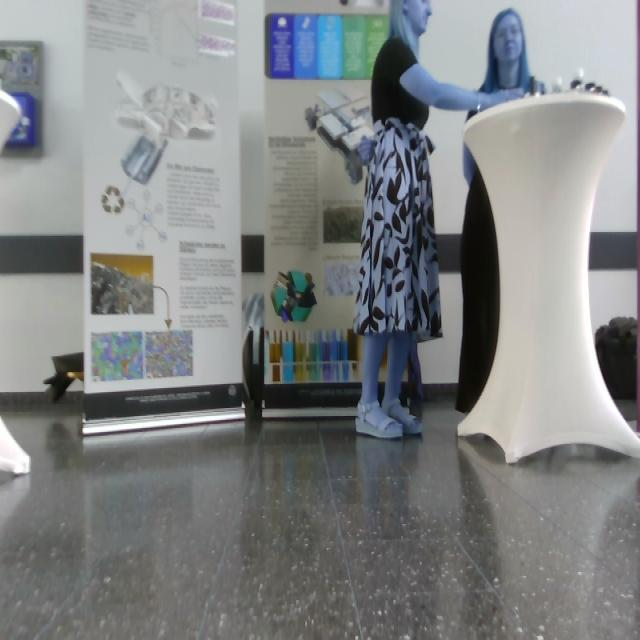door: (259, 1, 639, 414)
light bulb: (1, 78, 32, 477), (114, 69, 218, 186), (1, 80, 22, 157)
person: (353, 1, 525, 440)
pillar: (456, 90, 640, 465)
tiled floor: (1, 388, 640, 640)
